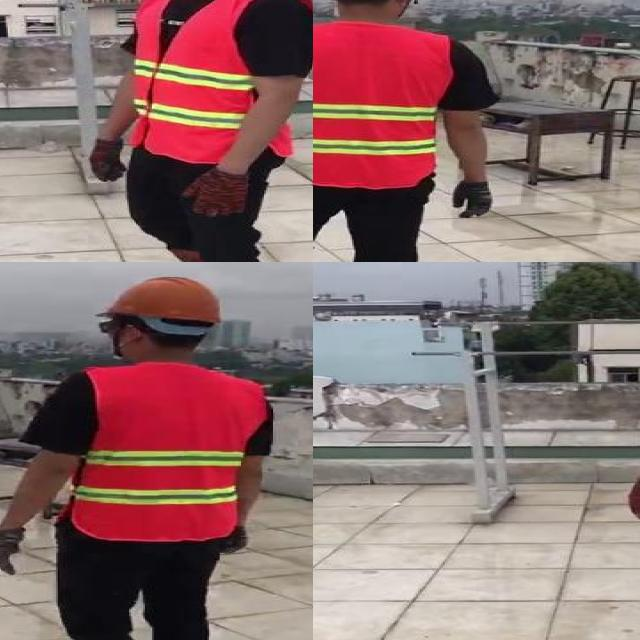hand_glove: (180, 170, 248, 218), (88, 138, 127, 182), (455, 179, 493, 220), (0, 524, 25, 572), (218, 530, 248, 559), (627, 479, 640, 519)
head_helmet: (92, 276, 234, 328)
person: (0, 275, 282, 640), (73, 0, 313, 262), (313, 0, 499, 262)
vest: (75, 362, 268, 537), (131, 0, 305, 161), (313, 18, 449, 190)
